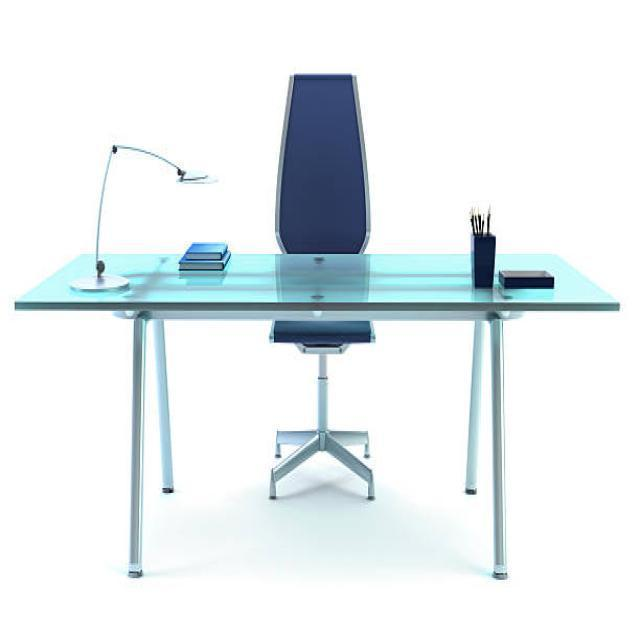table: (13, 249, 620, 580)
